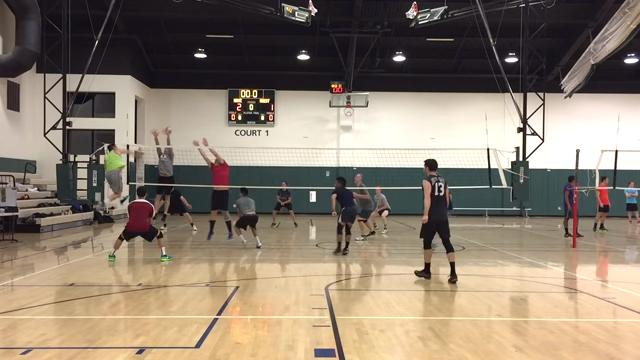Attack: (90, 139, 140, 213)
Block: (191, 135, 237, 242), (148, 127, 176, 229)
Player: (414, 159, 457, 283), (108, 186, 171, 261), (331, 177, 356, 254), (234, 187, 261, 248), (354, 174, 374, 240), (168, 188, 197, 232), (271, 181, 297, 227), (370, 187, 390, 233)
ball: (162, 128, 172, 136)
